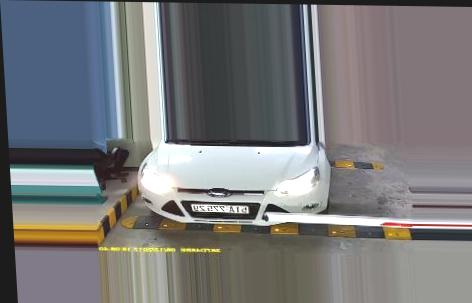License_Plate: (191, 202, 250, 215)
